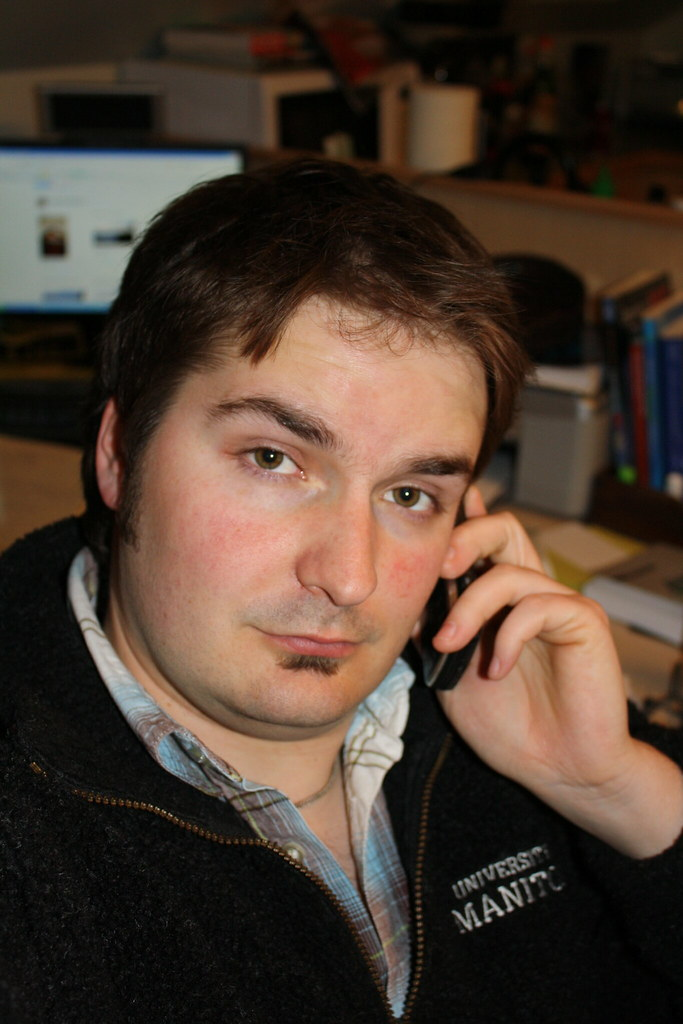phone: (416, 532, 594, 721)
talk: (175, 354, 674, 854)
